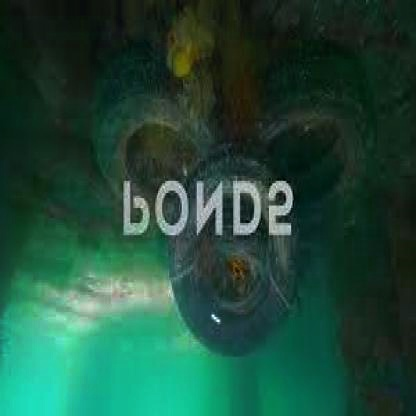tire: (164, 161, 318, 381), (85, 64, 216, 248), (259, 57, 377, 223)
